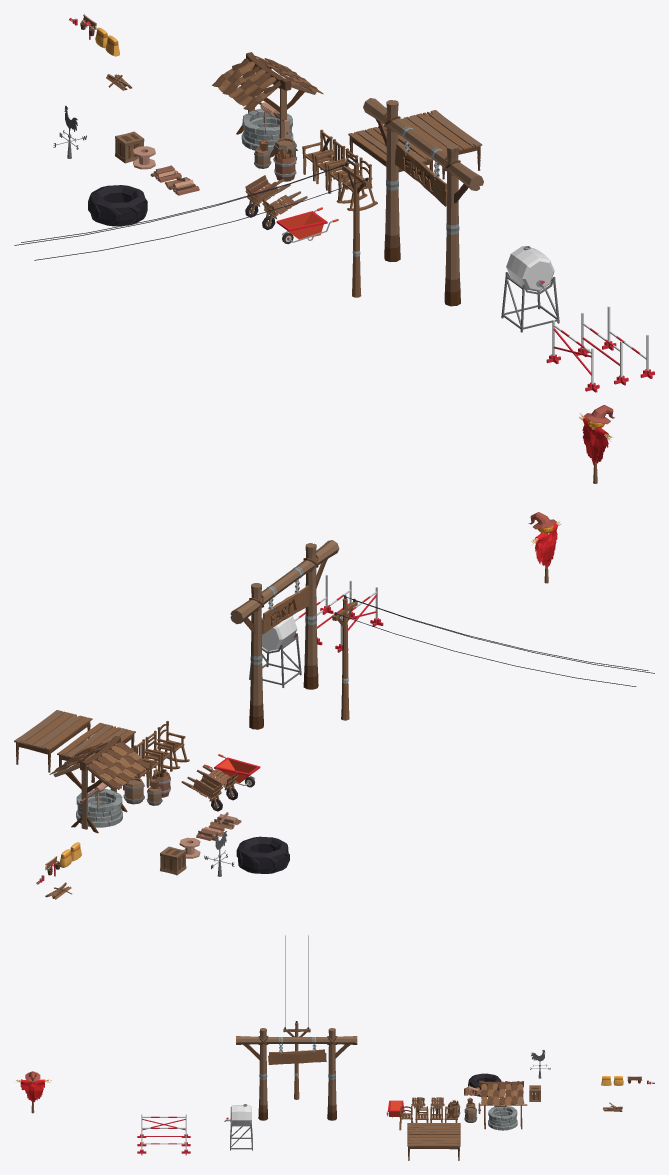
Rendered from Misc.fbx.
The picture shows the model from 3 angles, top to bottom: view 1: azimuth 30°, elevation 25°; view 2: azimuth 150°, elevation 25°; view 3: azimuth 270°, elevation 25°; orthographic projection. The views are drawn at different scales.
Visible parts, largest first — view 1: LogGate, Well1, WaterTank, Tire, Table1, ScareCrow, Table, Wire, ElectricityPole, Trolly, Trolly2, Hurdle (+4 smaller); view 2: LogGate, Well1, Table1, Tire, WaterTank, Table, ScareCrow, Wire, ElectricityPole, Trolly, Trolly2, Crate (+1 smaller); view 3: LogGate, Well1, Table1, WaterTank, Table, ScareCrow, ElectricityPole.
Boxes of the visible parts, bbox=[...] form: LogGate: bbox=[363, 98, 483, 306]; Well1: bbox=[212, 52, 323, 157]; WaterTank: bbox=[501, 246, 559, 332]; Tire: bbox=[88, 185, 147, 226]; Table1: bbox=[400, 110, 482, 179]; ScareCrow: bbox=[579, 405, 614, 483]; Table: bbox=[348, 125, 432, 172]; Wire: bbox=[14, 161, 369, 260]; ElectricityPole: bbox=[342, 159, 370, 297]; Trolly: bbox=[276, 207, 338, 244]; Trolly2: bbox=[245, 175, 290, 217]; Hurdle: bbox=[546, 320, 599, 392]; LogGate: bbox=[230, 540, 339, 729]; Well1: bbox=[49, 736, 150, 833]; Table1: bbox=[14, 710, 92, 772]; Tire: bbox=[236, 836, 289, 873]; WaterTank: bbox=[249, 616, 301, 687]; Table: bbox=[57, 722, 135, 782]; ScareCrow: bbox=[528, 512, 561, 583]; Wire: bbox=[333, 597, 654, 686]; ElectricityPole: bbox=[332, 595, 357, 720]; Trolly: bbox=[204, 754, 260, 787]; Trolly2: bbox=[181, 773, 222, 811]; Crate: bbox=[160, 846, 186, 875]; LogGate: bbox=[236, 1028, 357, 1120]; Well1: bbox=[478, 1080, 527, 1130]; Table1: bbox=[407, 1134, 460, 1160]; WaterTank: bbox=[224, 1104, 252, 1150]; Table: bbox=[407, 1123, 460, 1134]; ScareCrow: bbox=[16, 1071, 51, 1113]; ElectricityPole: bbox=[283, 1021, 310, 1099].
Size of the model in its own units: 0.1666 by 0.0508 by 0.2899.
1 material, 1 textured.
